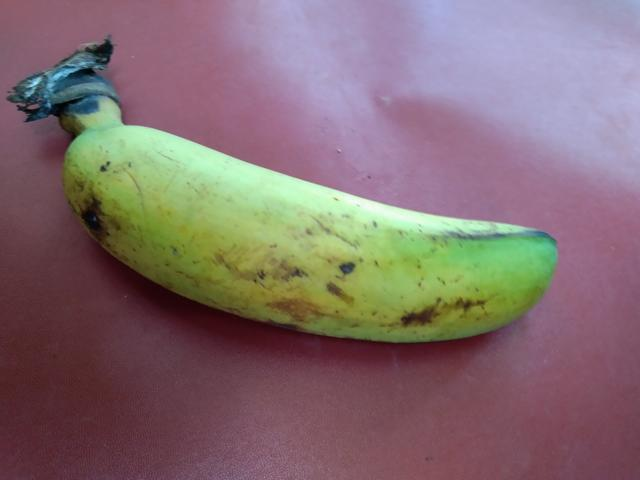ripe: (50, 119, 580, 368)
